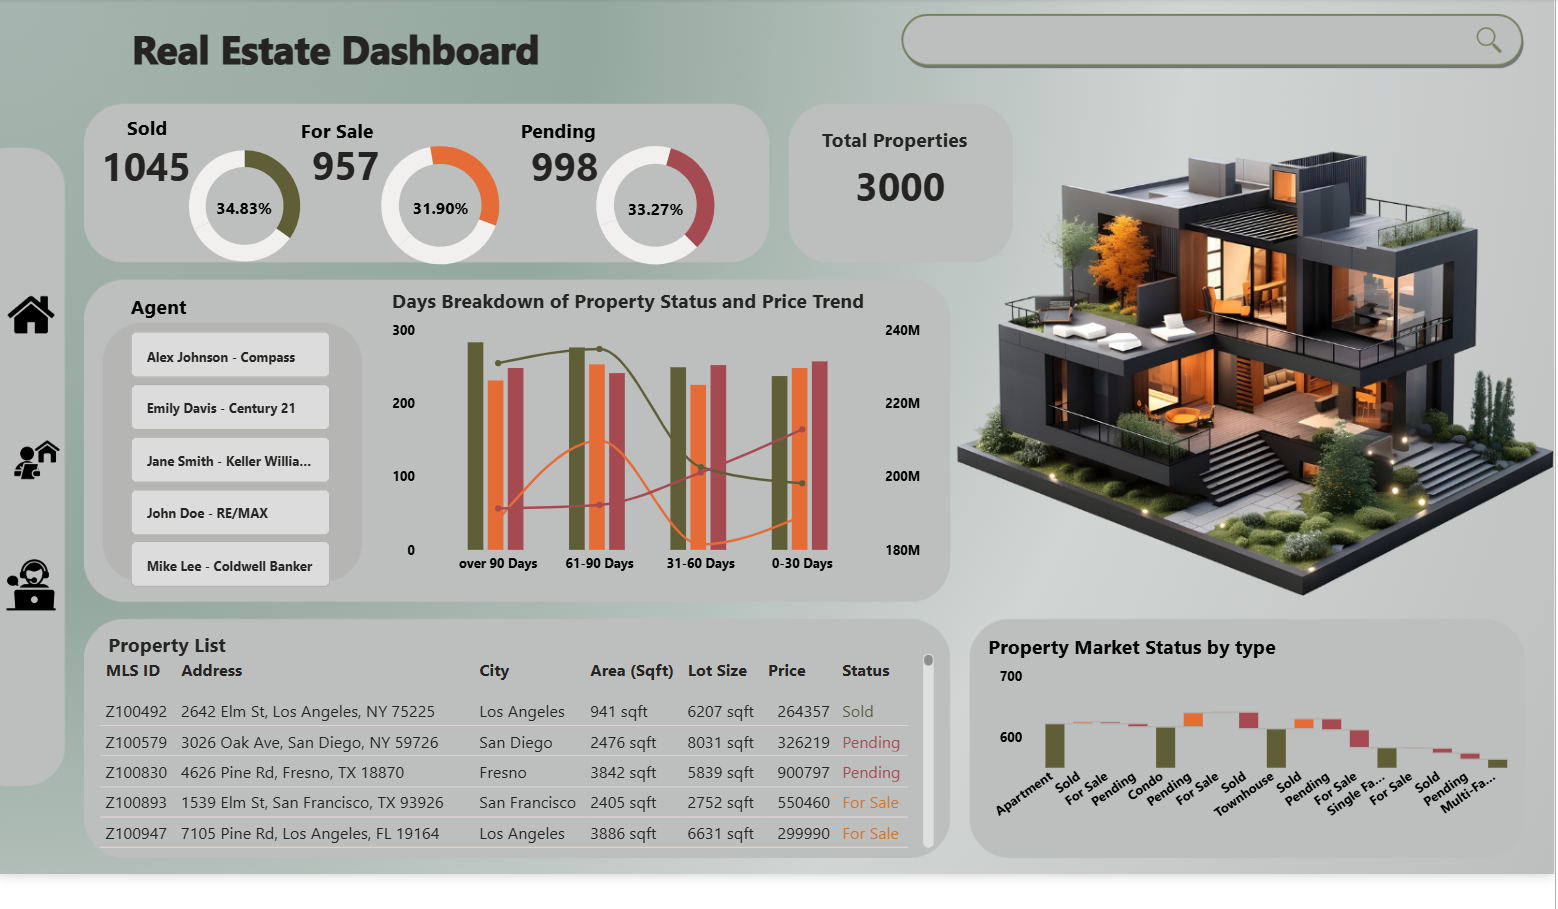

Layout of this report page (visuals, bound fields, positions):
{"tool":"powerbi","page":{"name":"Page 1","canvas":[1280,720],"ordinal":0},"visuals":[{"type":"textbox","box":[107.1,15.7,360,64.3],"z":0},{"type":"card","fields":{"Values":["RealEstate_Dataset.Total_Properties"]},"box":[685.7,128.6,114.3,52.9],"z":1000},{"type":"card","fields":{"Values":["RealEstate_Dataset.Properties_Sold"]},"box":[81.6,117.9,84.7,40.5],"z":2000},{"type":"card","fields":{"Values":["RealEstate_Dataset.Properties_for_Sale"]},"box":[241.1,112.2,92.2,51.1],"z":3000},{"type":"card","fields":{"Values":["RealEstate_Dataset.Properties_Pending"]},"box":[431.1,117.8,72.2,41.1],"z":4000},{"type":"card","fields":{"Values":["RealEstate_Dataset.%_Property_Sold"]},"box":[156.4,145.5,96.1,57.6],"z":5000},{"type":"card","fields":{"Values":["RealEstate_Dataset.%_Property_Sale"]},"box":[325.6,155.6,80,37.8],"z":6000},{"type":"card","fields":{"Values":["RealEstate_Dataset.%_Property_Pending"]},"box":[503.3,160,77.8,24.4],"z":7000},{"type":"donutChart","fields":{"Category":["RealEstate_Dataset.Status"],"Y":["CountNonNull(RealEstate_Dataset.Status)"]},"box":[112.9,108.6,182.9,124.3],"z":8000},{"type":"donutChart","fields":{"Category":["RealEstate_Dataset.Status"],"Y":["CountNonNull(RealEstate_Dataset.Status)"]},"box":[277.1,104.3,175.7,131.4],"z":9000},{"type":"donutChart","fields":{"Category":["RealEstate_Dataset.Status"],"Y":["CountNonNull(RealEstate_Dataset.Status)"]},"box":[451.4,104.3,180,131.4],"z":10000},{"type":"textbox","box":[673.3,100,182.2,34.4],"z":11000},{"type":"textbox","box":[102.2,90,43.3,34.4],"z":12000},{"type":"textbox","box":[245.6,92.2,83.3,34.4],"z":13000},{"type":"textbox","box":[425.6,92.2,83.3,34.4],"z":14000},{"type":"lineClusteredColumnComboChart","title":"Days Breakdown of Property Status and Price Trend","fields":{"Category":["RealEstate_Dataset.Days_on_market_Category"],"Y":["RealEstate_Dataset.Properties_Sold","RealEstate_Dataset.Properties_for_Sale","RealEstate_Dataset.Properties_Pending"],"Y2":["RealEstate_Dataset._Total_Sold_Price","RealEstate_Dataset.Total_Sale_Price","RealEstate_Dataset.Total_Pending_Price"]},"box":[320,237.1,444.3,244.3],"z":15000},{"type":"tableEx","fields":{"Values":["RealEstate_Dataset.MLS ID","RealEstate_Dataset.Address","RealEstate_Dataset.City","RealEstate_Dataset.Area (Sqft)","RealEstate_Dataset.Lot Size","RealEstate_Dataset.Price","RealEstate_Dataset.Status"]},"box":[79.1,533.8,696.1,169.4],"z":16000},{"type":"waterfallChart","title":"Property Market Status by type","fields":{"Category":["RealEstate_Dataset.Property Type"],"Y":["CountNonNull(RealEstate_Dataset.Status)"],"Breakdown":["RealEstate_Dataset.Status"]},"box":[810,521.4,445.7,162.9],"z":17000},{"type":"advancedSlicerVisual","fields":{"Values":["RealEstate_Dataset.Listing Agent"]},"box":[105.7,268.6,174.3,222.9],"z":17001},{"type":"textbox","box":[87.1,514.3,208.6,34.3],"z":17002},{"type":"textbox","box":[105.7,237.1,110,31.4],"z":17003},{"type":"image","box":[0,235.7,57.1,48.6],"z":17004},{"type":"image","box":[0,355.7,67.1,48.6],"z":17005},{"type":"image","box":[0,454.3,57.1,54.3],"z":17006}]}

Visuals, with their boxes on the page's 1280x720 design canvas (x1, y1, x2, y2). These are canvas units, not pixel positions in the 1558x909 screenshot, which may show the page scaled, cropped or inside an application window:
textbox: {"x1": 107, "y1": 16, "x2": 467, "y2": 80}
card - RealEstate_Dataset.Total_Properties: {"x1": 686, "y1": 129, "x2": 800, "y2": 182}
card - RealEstate_Dataset.Properties_Sold: {"x1": 82, "y1": 118, "x2": 166, "y2": 158}
card - RealEstate_Dataset.Properties_for_Sale: {"x1": 241, "y1": 112, "x2": 333, "y2": 163}
card - RealEstate_Dataset.Properties_Pending: {"x1": 431, "y1": 118, "x2": 503, "y2": 159}
card - RealEstate_Dataset.%_Property_Sold: {"x1": 156, "y1": 146, "x2": 252, "y2": 203}
card - RealEstate_Dataset.%_Property_Sale: {"x1": 326, "y1": 156, "x2": 406, "y2": 193}
card - RealEstate_Dataset.%_Property_Pending: {"x1": 503, "y1": 160, "x2": 581, "y2": 184}
donutChart - RealEstate_Dataset.Status x CountNonNull(RealEstate_Dataset.Status): {"x1": 113, "y1": 109, "x2": 296, "y2": 233}
donutChart - RealEstate_Dataset.Status x CountNonNull(RealEstate_Dataset.Status): {"x1": 277, "y1": 104, "x2": 453, "y2": 236}
donutChart - RealEstate_Dataset.Status x CountNonNull(RealEstate_Dataset.Status): {"x1": 451, "y1": 104, "x2": 631, "y2": 236}
textbox: {"x1": 673, "y1": 100, "x2": 856, "y2": 134}
textbox: {"x1": 102, "y1": 90, "x2": 146, "y2": 124}
textbox: {"x1": 246, "y1": 92, "x2": 329, "y2": 127}
textbox: {"x1": 426, "y1": 92, "x2": 509, "y2": 127}
"Days Breakdown of Property Status and Price Trend" lineClusteredColumnComboChart: {"x1": 320, "y1": 237, "x2": 764, "y2": 481}
tableEx - RealEstate_Dataset.MLS ID x RealEstate_Dataset.Address: {"x1": 79, "y1": 534, "x2": 775, "y2": 703}
"Property Market Status by type" waterfallChart: {"x1": 810, "y1": 521, "x2": 1256, "y2": 684}
advancedSlicerVisual - RealEstate_Dataset.Listing Agent: {"x1": 106, "y1": 269, "x2": 280, "y2": 492}
textbox: {"x1": 87, "y1": 514, "x2": 296, "y2": 549}
textbox: {"x1": 106, "y1": 237, "x2": 216, "y2": 268}
image: {"x1": 0, "y1": 236, "x2": 57, "y2": 284}
image: {"x1": 0, "y1": 356, "x2": 67, "y2": 404}
image: {"x1": 0, "y1": 454, "x2": 57, "y2": 509}
